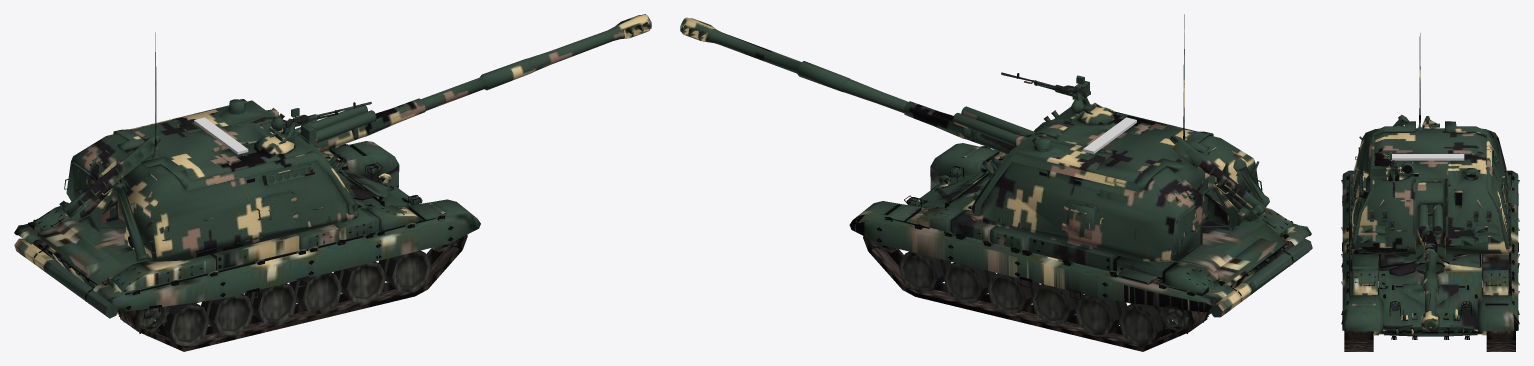
Rendered from msta.glb.
3 renders of one model, left to right at view 1: azimuth 30°, elevation 25°; view 2: azimuth 150°, elevation 25°; view 3: azimuth 270°, elevation 25°, orthographic. The views are drawn at different scales.
Parts seen in each view (by area): view 1: g_msta_hull, g_msta_turret, g_msta_gun; view 2: g_msta_hull, g_msta_turret, g_msta_gun; view 3: g_msta_turret, g_msta_hull, g_msta_gun.
Boxes of the visible parts, bbox=[...] form: g_msta_hull: bbox=[14, 141, 480, 351]; g_msta_turret: bbox=[59, 14, 651, 261]; g_msta_gun: bbox=[262, 105, 376, 185]; g_msta_hull: bbox=[849, 143, 1312, 351]; g_msta_turret: bbox=[680, 14, 1269, 261]; g_msta_gun: bbox=[952, 106, 1035, 145]; g_msta_turret: bbox=[1349, 33, 1511, 331]; g_msta_hull: bbox=[1341, 165, 1519, 351]; g_msta_gun: bbox=[1359, 170, 1442, 234].
Bounding box in the file's own units: 11.89 × 5.7 × 3.71.
4 materials, 3 textured.
